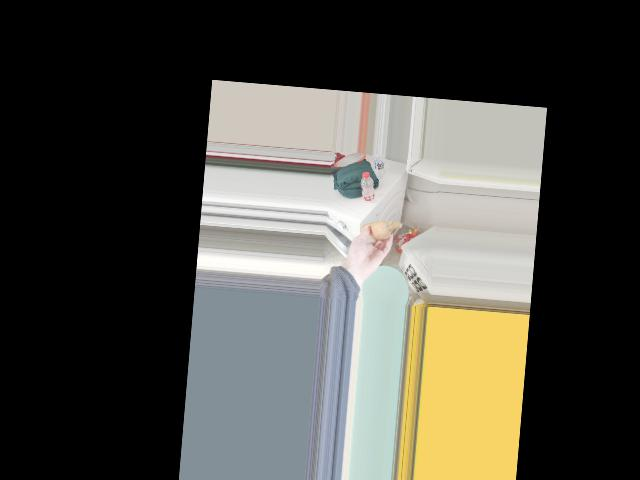sweet_potato: (361, 218, 394, 239)
